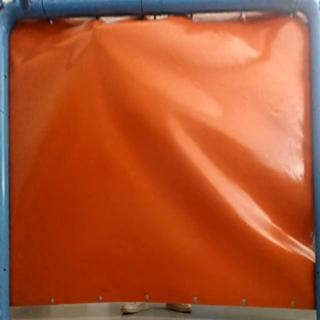Hit-hRxx: (92, 25, 104, 33)
